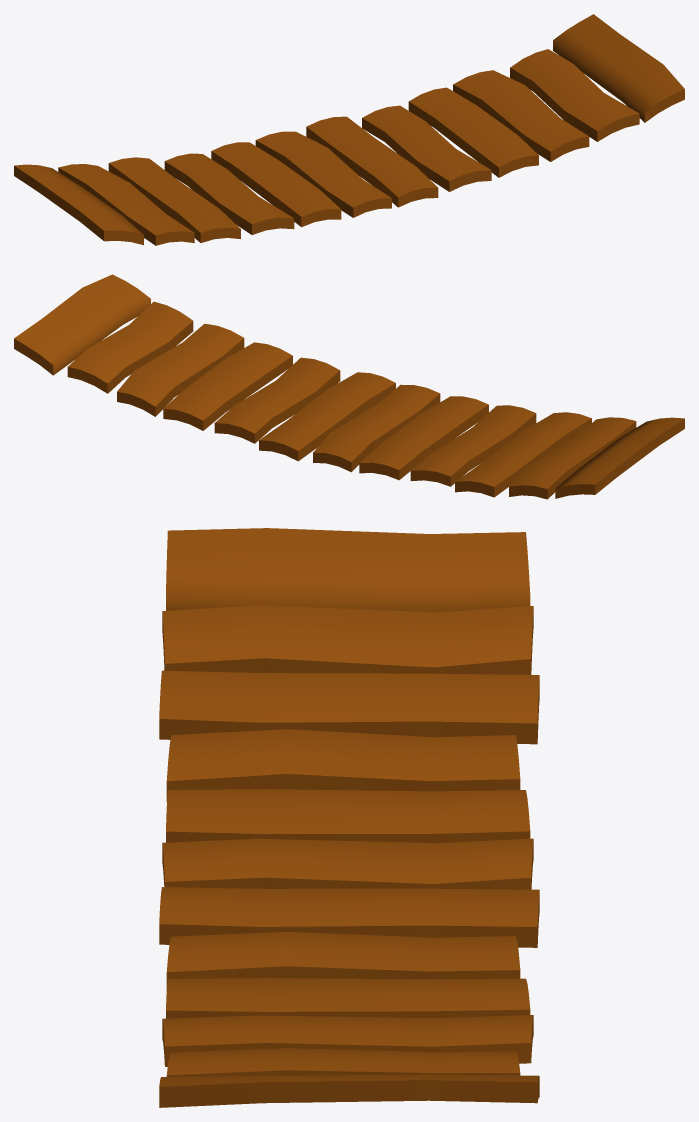
The model's file is Jungle_Bridge_01.fbx.
3 views of the same model, one above another, from view 1: azimuth 30°, elevation 25°; view 2: azimuth 150°, elevation 25°; view 3: azimuth 270°, elevation 25° (orthographic). The views are drawn at different scales.
Visible parts, largest first — view 1: Jungle_Bridge_01; view 2: Jungle_Bridge_01; view 3: Jungle_Bridge_01.
Part boxes in pixels (left/top/right/bottom): Jungle_Bridge_01: left=14, top=14, right=684, bottom=245; Jungle_Bridge_01: left=14, top=274, right=684, bottom=499; Jungle_Bridge_01: left=159, top=528, right=539, bottom=1107.
Size of the model in its own units: 5.91 by 0.5235 by 1.68.
